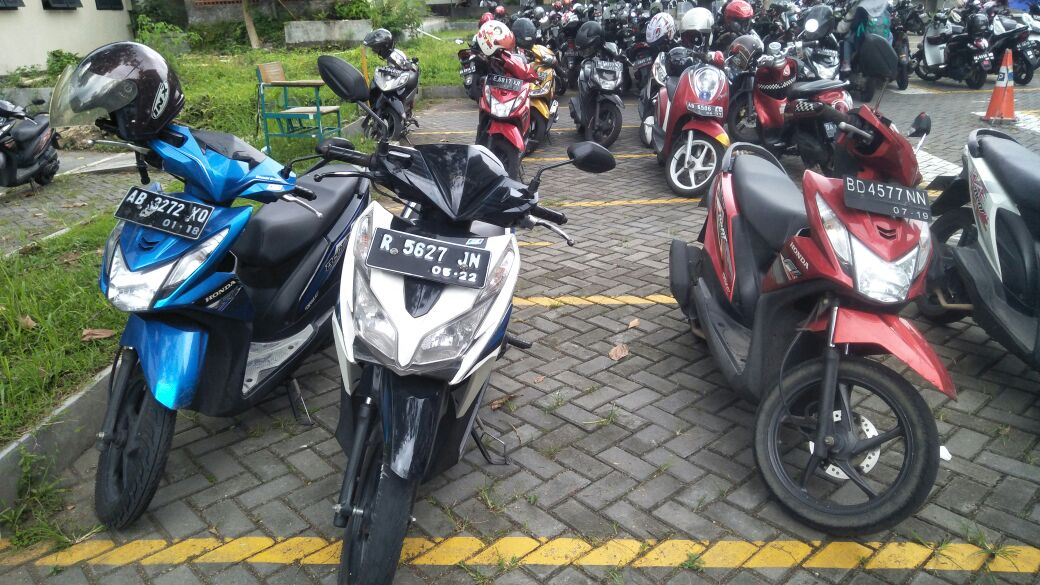plate: (369, 224, 488, 291), (112, 186, 212, 241), (840, 172, 937, 222)
